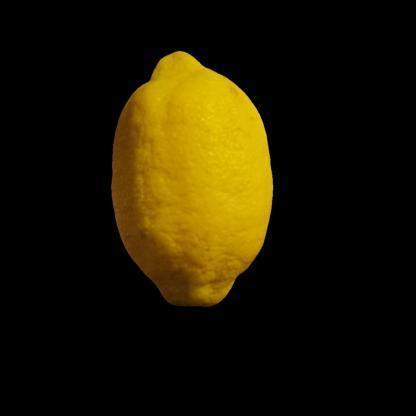lemon: (110, 50, 274, 308)
